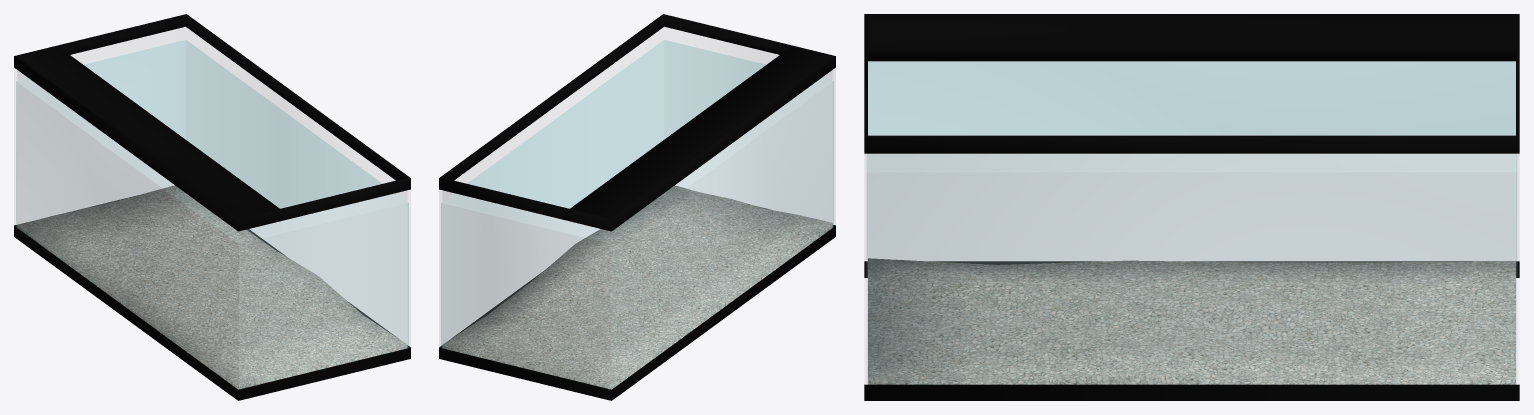
The model's file is aquarium.glb.
3 views of the same model, side by side, from view 1: azimuth 30°, elevation 25°; view 2: azimuth 150°, elevation 25°; view 3: azimuth 270°, elevation 25° (orthographic). The views are drawn at different scales.
Visible parts, largest first — view 1: aquarium; view 2: aquarium; view 3: aquarium.
Part boxes in pixels (bbox=[...]): aquarium: bbox=[14, 14, 410, 400]; aquarium: bbox=[439, 14, 835, 400]; aquarium: bbox=[864, 14, 1519, 400].
Size of the model in its own units: 0.8 by 0.8 by 1.8.
4 materials, 1 textured.
